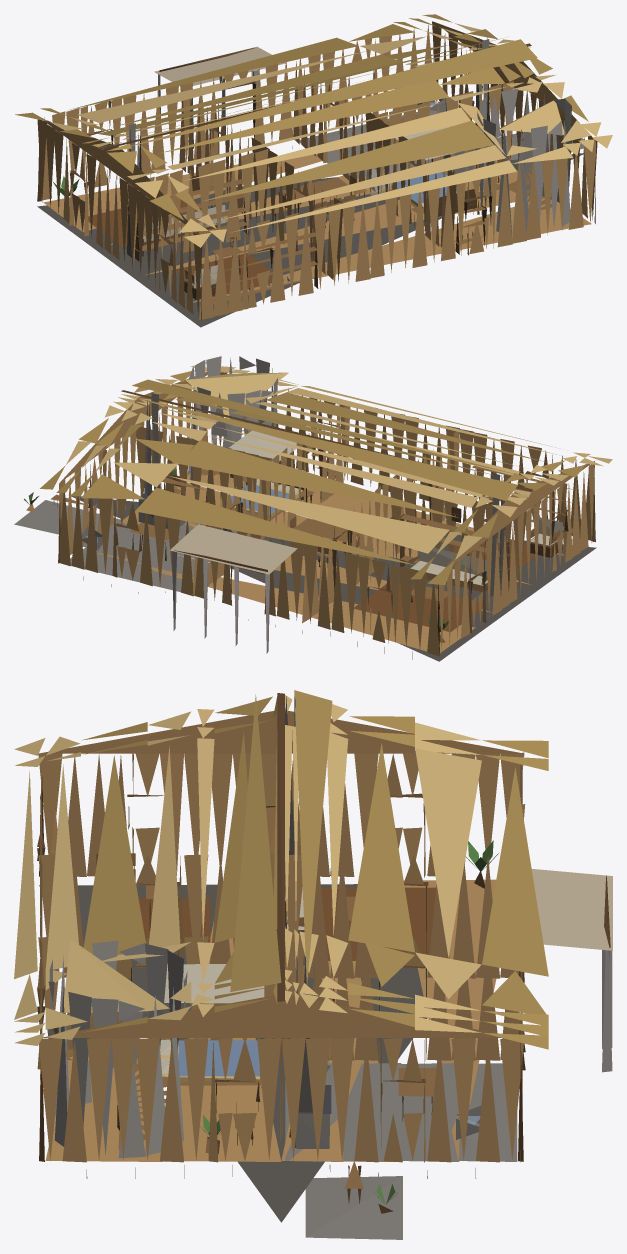
File: SM_CASA_04_MANSION_MEDIA.glb
3 views of the same model, one above another, from view 1: azimuth 30°, elevation 25°; view 2: azimuth 150°, elevation 25°; view 3: azimuth 270°, elevation 25° (orthographic). The views are drawn at different scales.
Parts seen in each view (by area): view 1: SM_Techo_Izq, SM_Pared_Norte, SM_Techo_Der, SM_Pared_Oeste, SM_Suelo, SM_Pared_Sur, SM_Cimiento, SM_Techo_Superior, SM_Torre, SM_Pared_Interior_1, SM_Pared_Interior_3, SM_Pared_Este (+13 smaller); view 2: SM_Techo_Der, SM_Pared_Sur, SM_Suelo, SM_Pared_Oeste, SM_Techo_Izq, SM_Techo_Superior, SM_Pared_Norte, SM_Cimiento, SM_Portico, SM_Pared_Este, SM_Cocina_Completa, SM_Pared_Interior_1 (+14 smaller); view 3: SM_Pared_Este, SM_Techo_Der, SM_Techo_Izq, SM_Pared_Oeste, SM_Suelo, SM_Techo_Superior, SM_Cocina_Completa, SM_Pared_Interior_1, SM_Torre, SM_Pared_Interior_2, SM_Cimiento, SM_Portico (+8 smaller).
Boxes of the visible parts, box(x1,y1,x2,y2) form: SM_Techo_Izq: box(106, 47, 612, 247); SM_Pared_Norte: box(199, 140, 595, 320); SM_Techo_Der: box(15, 14, 514, 149); SM_Pared_Oeste: box(37, 119, 202, 317); SM_Suelo: box(43, 149, 591, 304); SM_Pared_Sur: box(37, 25, 435, 201); SM_Cimiento: box(37, 146, 583, 327); SM_Techo_Superior: box(97, 38, 537, 147); SM_Torre: box(477, 88, 571, 235); SM_Pared_Interior_1: box(179, 90, 342, 281); SM_Pared_Interior_3: box(127, 149, 268, 264); SM_Pared_Este: box(432, 21, 597, 219); SM_Techo_Der: box(40, 394, 530, 585); SM_Pared_Sur: box(58, 492, 439, 656); SM_Suelo: box(85, 468, 564, 652); SM_Pared_Oeste: box(439, 461, 594, 653); SM_Techo_Izq: box(134, 362, 612, 490); SM_Techo_Superior: box(126, 379, 527, 500); SM_Pared_Norte: box(215, 372, 595, 542); SM_Cimiento: box(68, 495, 596, 661); SM_Portico: box(170, 524, 297, 653); SM_Pared_Este: box(59, 372, 212, 554); SM_Cocina_Completa: box(70, 477, 268, 592); SM_Pared_Interior_1: box(302, 428, 459, 623); SM_Pared_Este: box(39, 995, 523, 1162); SM_Techo_Der: box(285, 695, 548, 1049); SM_Techo_Izq: box(14, 696, 277, 1045); SM_Pared_Oeste: box(38, 710, 524, 877); SM_Suelo: box(45, 879, 496, 1161); SM_Techo_Superior: box(230, 690, 332, 991); SM_Cocina_Completa: box(285, 1038, 517, 1161); SM_Pared_Interior_1: box(38, 854, 518, 978); SM_Torre: box(48, 940, 187, 1158); SM_Pared_Interior_2: box(38, 936, 524, 1061); SM_Cimiento: box(39, 884, 476, 1222); SM_Portico: box(531, 869, 612, 1072).
Size of the model in its own units: 17.5 by 4.73 by 12.32.
